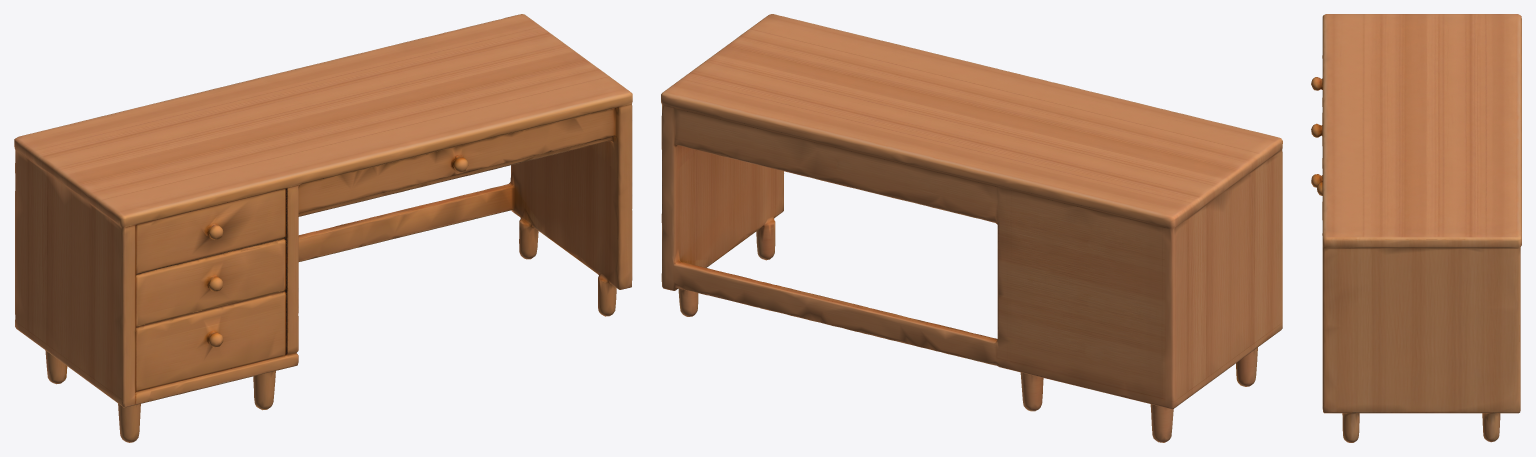
Rendered from makyajmasasi.fbx.
3 views of the same model, side by side, from view 1: azimuth 30°, elevation 25°; view 2: azimuth 150°, elevation 25°; view 3: azimuth 270°, elevation 25° (orthographic). The views are drawn at different scales.
Parts seen in each view (by area): view 1: Mesh_0; view 2: Mesh_0; view 3: Mesh_0.
Part boxes in pixels (bbox=[...]): Mesh_0: bbox=[14, 14, 632, 442]; Mesh_0: bbox=[661, 14, 1282, 442]; Mesh_0: bbox=[1311, 14, 1521, 442].
Size of the model in its own units: 191 by 86.08 by 75.56.
1 material, 1 textured.
